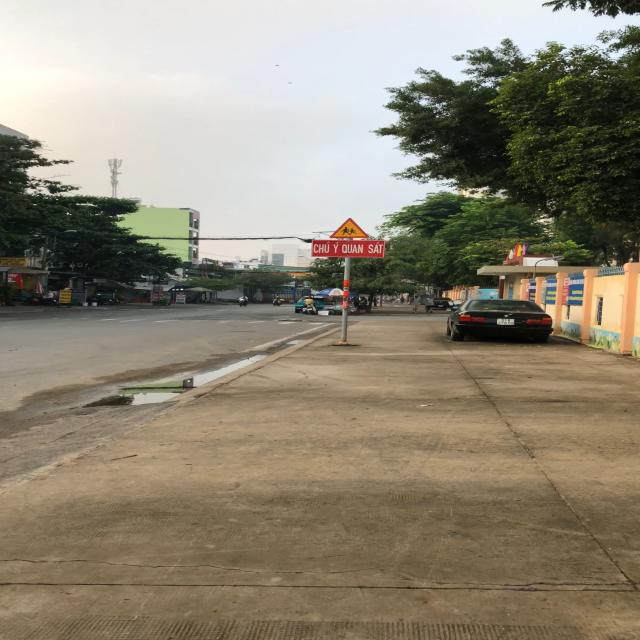Bien bao tre em: (328, 217, 372, 239)
